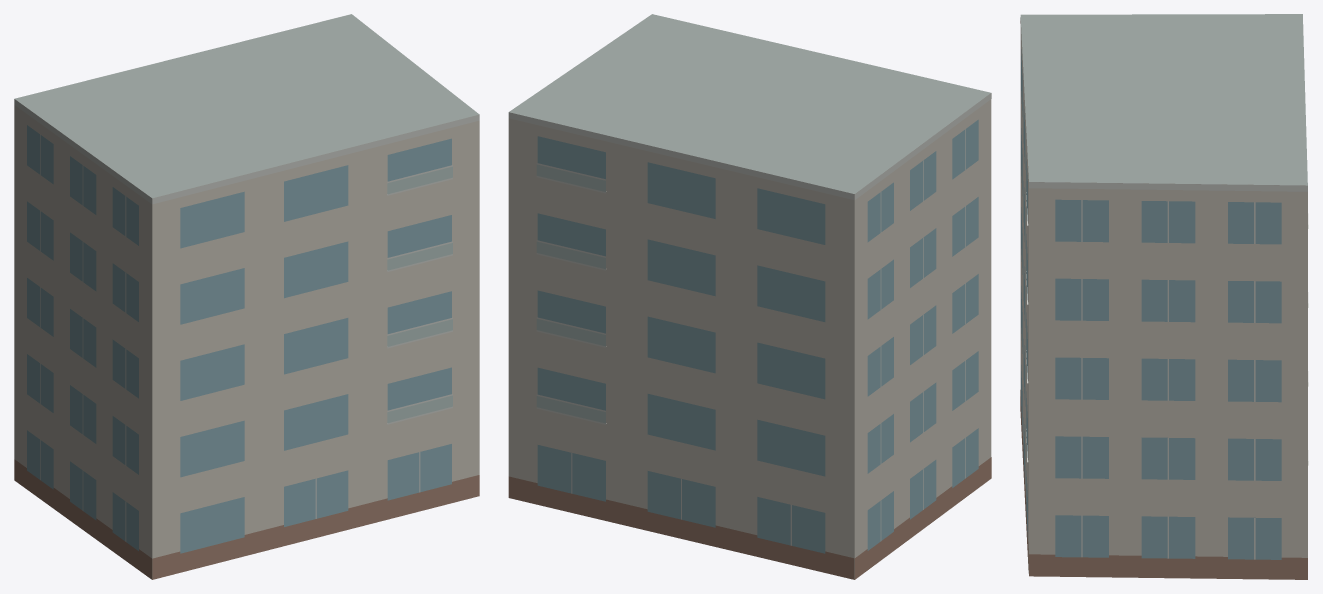
Rendered from survey-upis-32834479.glb.
3 renders of one model, left to right at view 1: azimuth 30°, elevation 25°; view 2: azimuth 150°, elevation 25°; view 3: azimuth 270°, elevation 25°, orthographic. The views are drawn at different scales.
Parts seen in each view (by area): view 1: survey-upis-32834479.tmp; view 2: survey-upis-32834479.tmp; view 3: survey-upis-32834479.tmp.
Boxes of the visible parts, <box> form: survey-upis-32834479.tmp: <box>14,14,479,579</box>; survey-upis-32834479.tmp: <box>508,14,991,579</box>; survey-upis-32834479.tmp: <box>1020,14,1308,579</box>.
Bounding box in the file's own units: 14.33 × 15.36 × 10.17.
